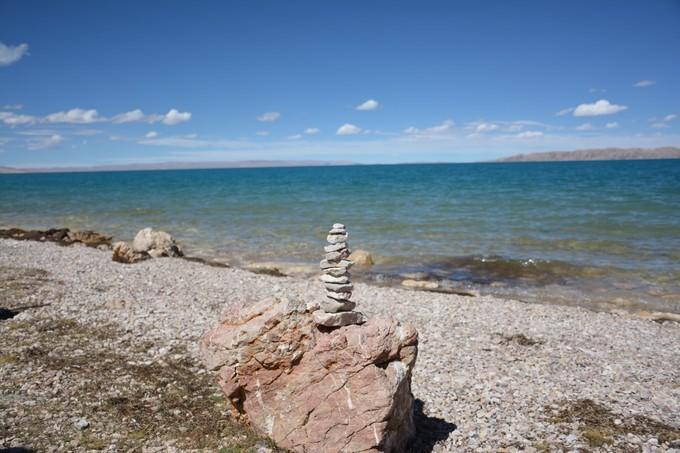mountain: (6, 239, 313, 428)
sea_river: (30, 164, 656, 256)
sky_cloud: (0, 31, 680, 141)
